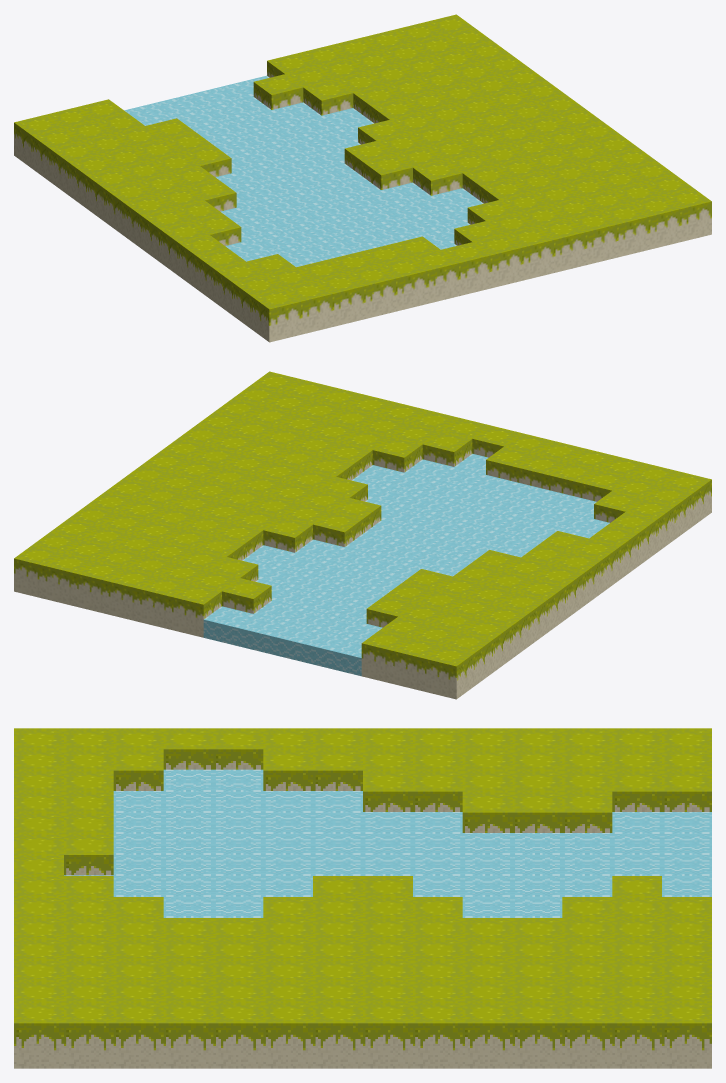
3 views of the same model, one above another, from view 1: azimuth 30°, elevation 25°; view 2: azimuth 150°, elevation 25°; view 3: azimuth 270°, elevation 25° (orthographic). The views are drawn at different scales.
Visible parts, largest first — view 1: Ground_Grass_D__2__1__42_; view 2: Ground_Grass_D__2__1__42_; view 3: Ground_Grass_D__2__1__42_.
Boxes of the visible parts, left/top/right/bottom form: Ground_Grass_D__2__1__42_: left=14, top=14, right=711, bottom=342; Ground_Grass_D__2__1__42_: left=14, top=371, right=711, bottom=699; Ground_Grass_D__2__1__42_: left=14, top=728, right=711, bottom=1068.
Size of the model in its own units: 8400 by 600 by 8400.
Materials: 2 (2 with a texture image).
